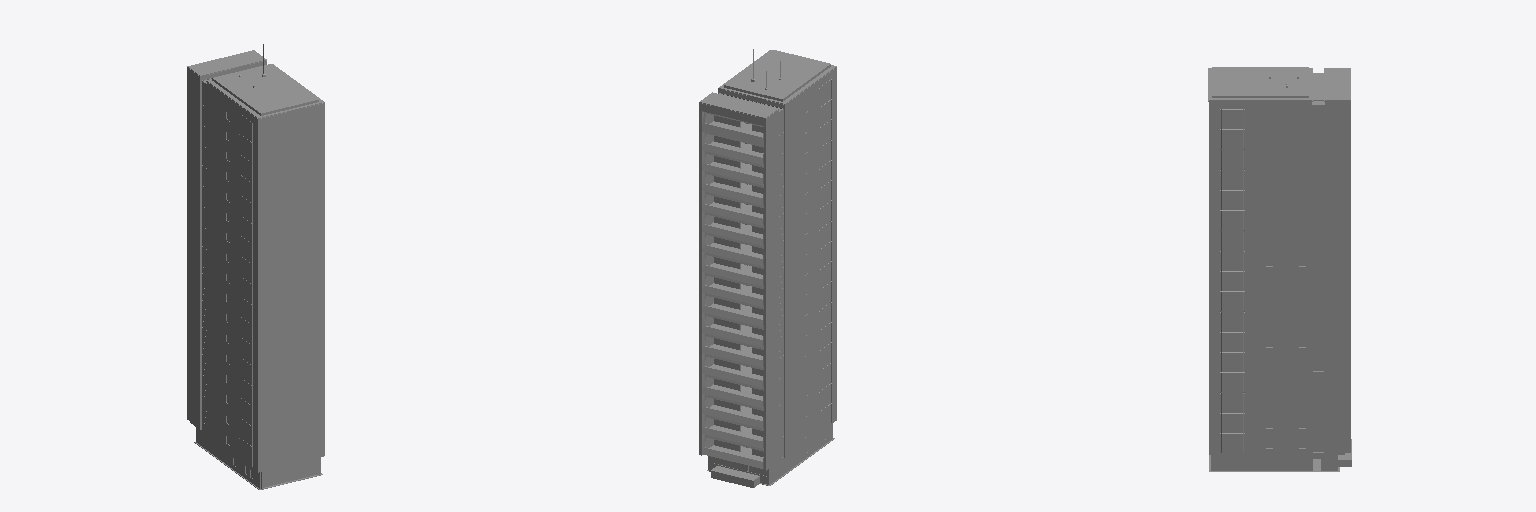
The model's file is residential_008.obj.
3 views of the same model, side by side, from view 1: azimuth 30°, elevation 25°; view 2: azimuth 150°, elevation 25°; view 3: azimuth 270°, elevation 25° (orthographic).
Parts seen in each view (by area): view 1: Residential_Buildings_008_Cube.003; view 2: Residential_Buildings_008_Cube.003; view 3: Residential_Buildings_008_Cube.003.
Part boxes in pixels (left/top/right/bottom): Residential_Buildings_008_Cube.003: left=187, top=44, right=324, bottom=489; Residential_Buildings_008_Cube.003: left=699, top=49, right=836, bottom=487; Residential_Buildings_008_Cube.003: left=1208, top=67, right=1351, bottom=471.
Size of the model in its own units: 12.59 by 73.38 by 23.1.